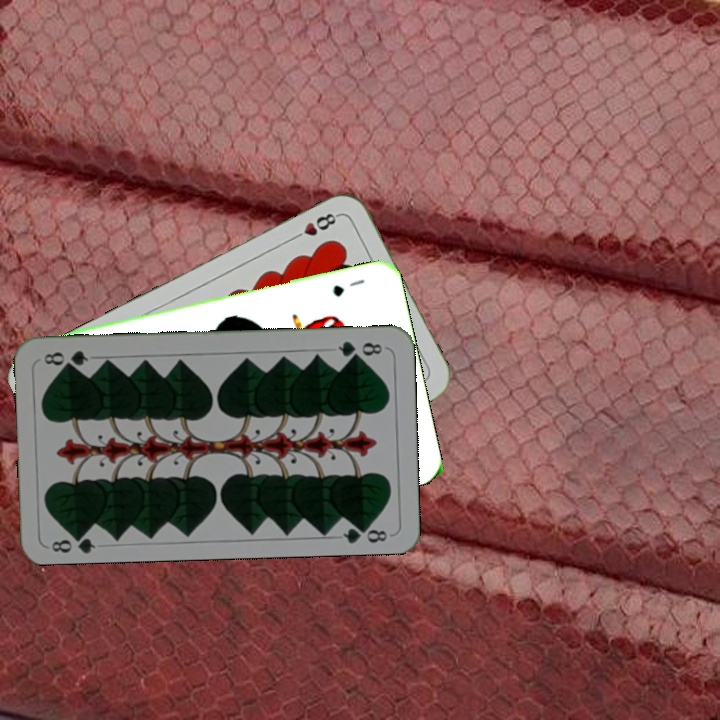G8: (48, 528, 98, 555), (334, 337, 385, 361)
GU: (329, 275, 367, 299)
H8: (287, 209, 342, 243)
